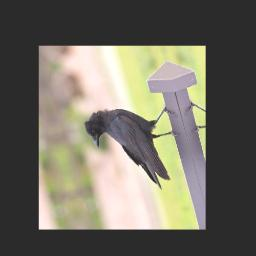Crow: (81, 96, 194, 201)
